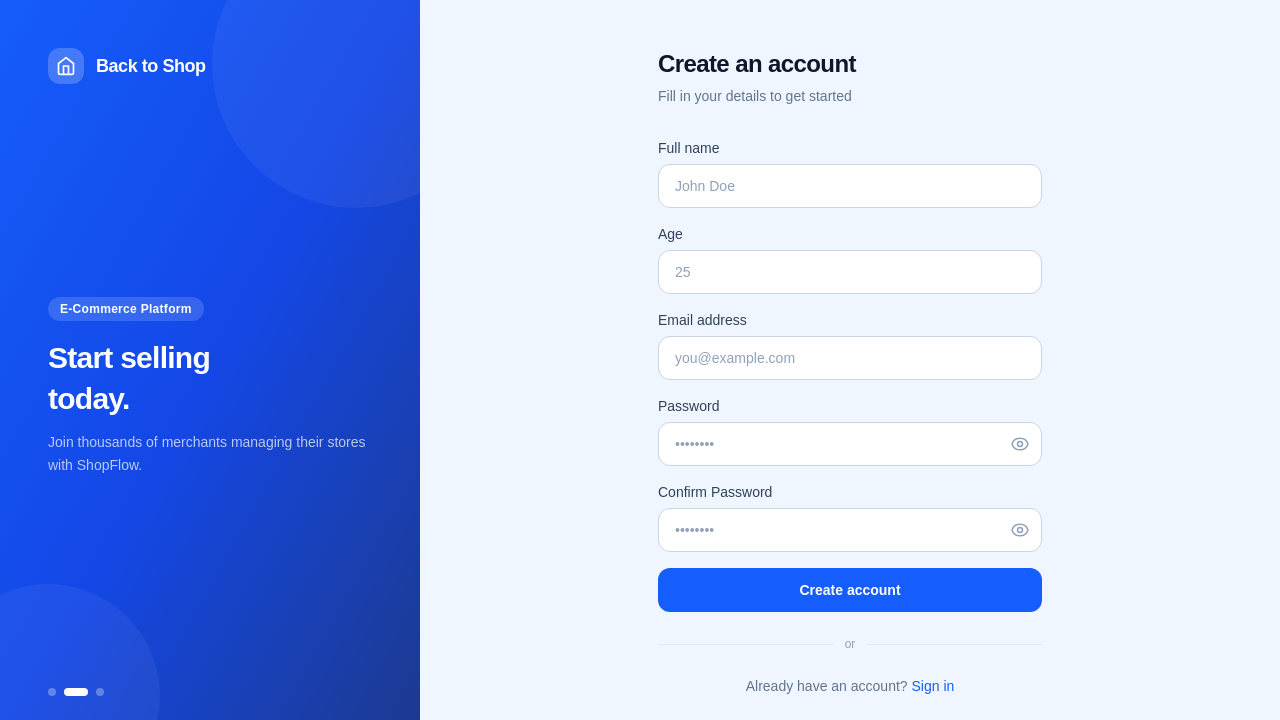
Scenario: RegisterPage — live password match indicator › shows "Passwords match" when confirm equals password
This screenshot has width=1280, height=720.
Type "password123" into the 1st password field with placeholder "••••••••".
click(850, 444); type("password123")  # box [658,422,1042,466]
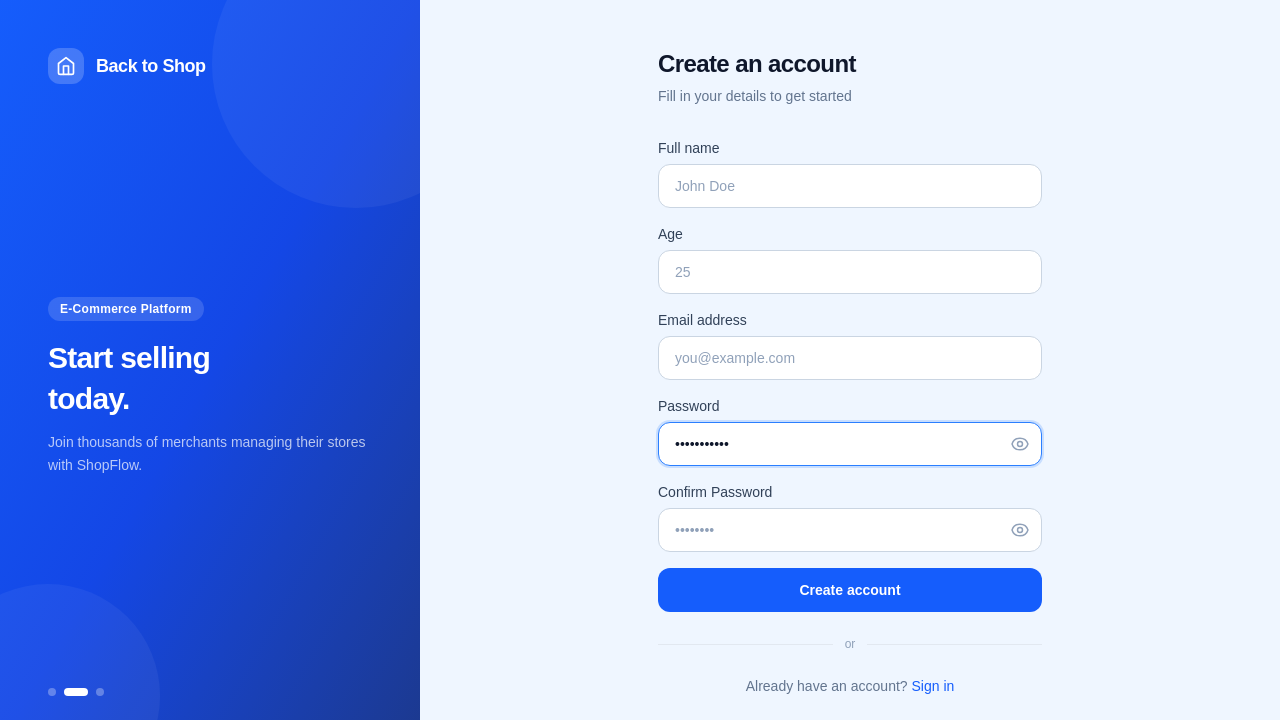
Type "password123" into the password field with placeholder "••••••••".
click(850, 530); type("password123")  # box [658,508,1042,552]
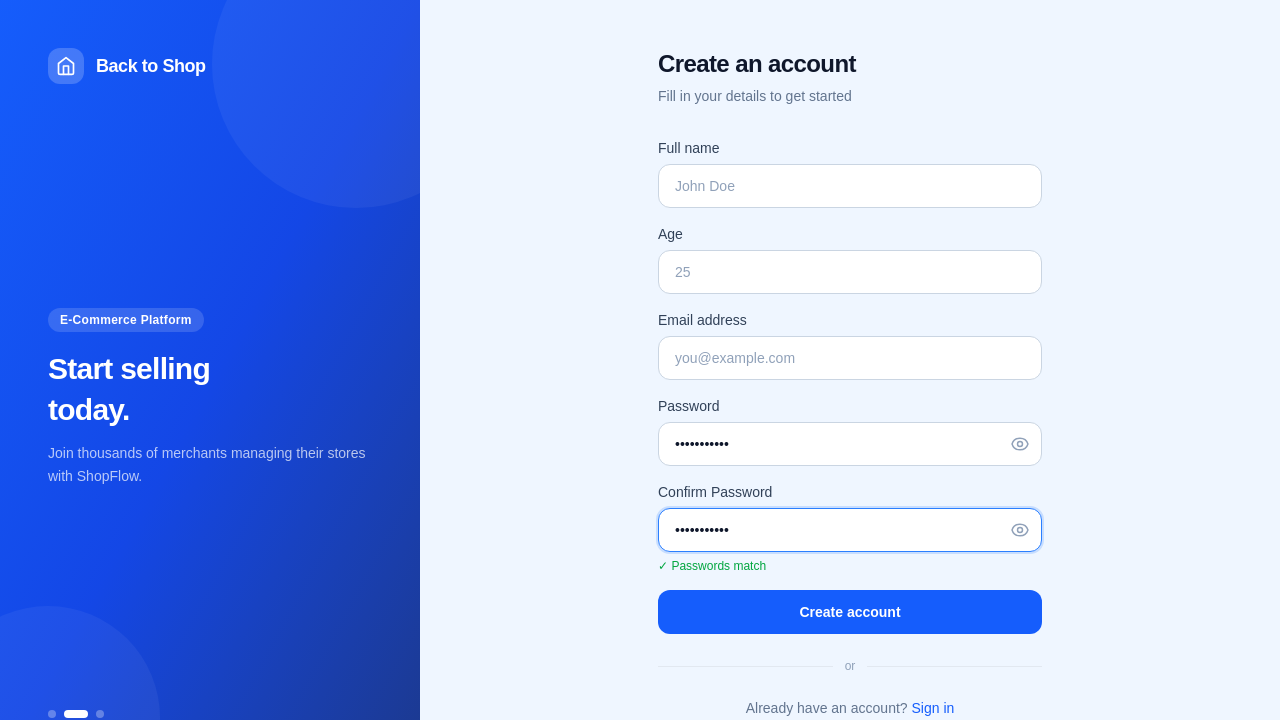
Expected: the text "✓ Passwords match" is shown, [658,559,766,573]
